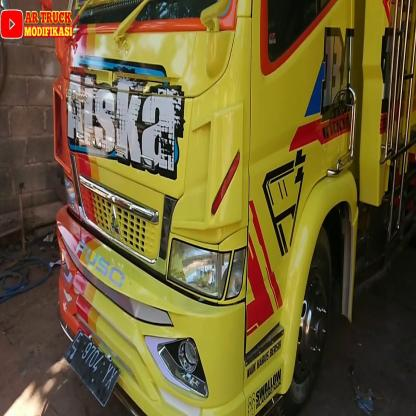truck: (54, 1, 416, 401)
